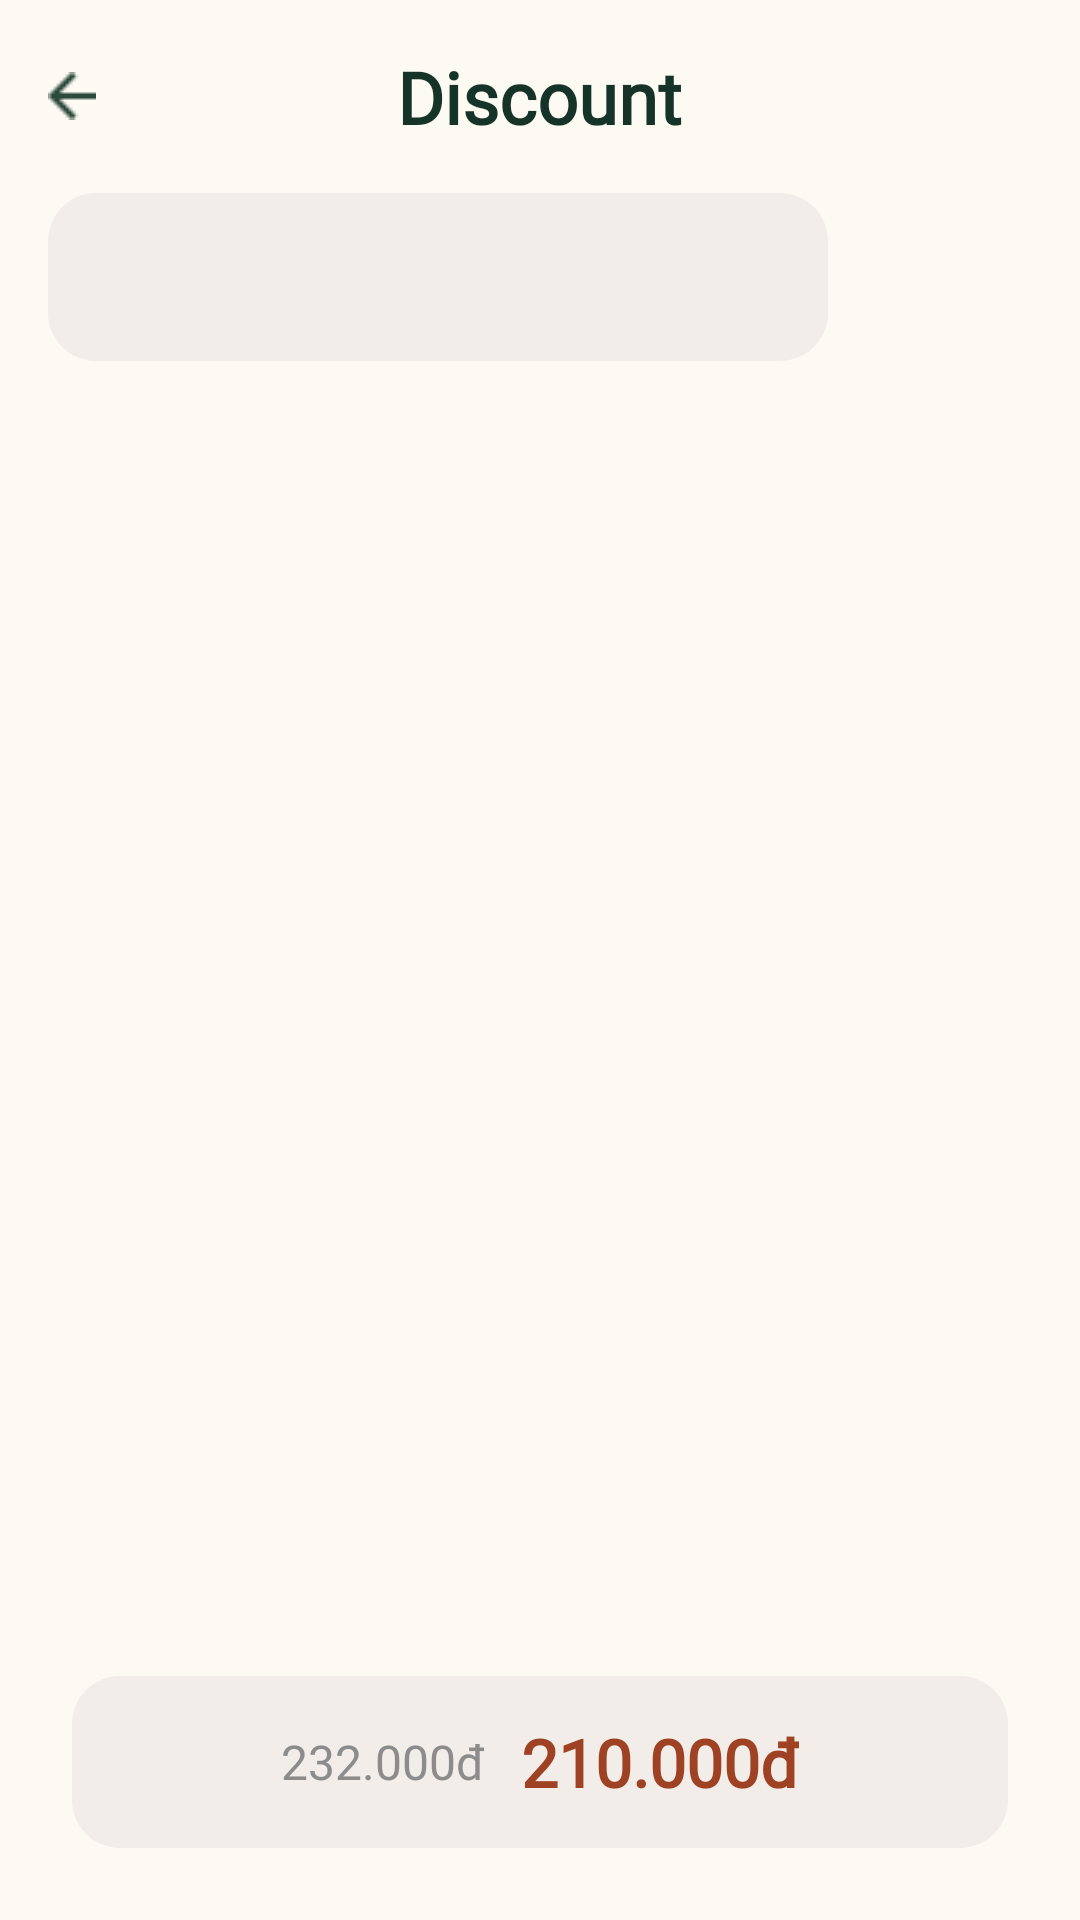

Screen size 1080px×1920px. Icon name, then its center in pixels as (x,y):
Go Back: (72,96)
